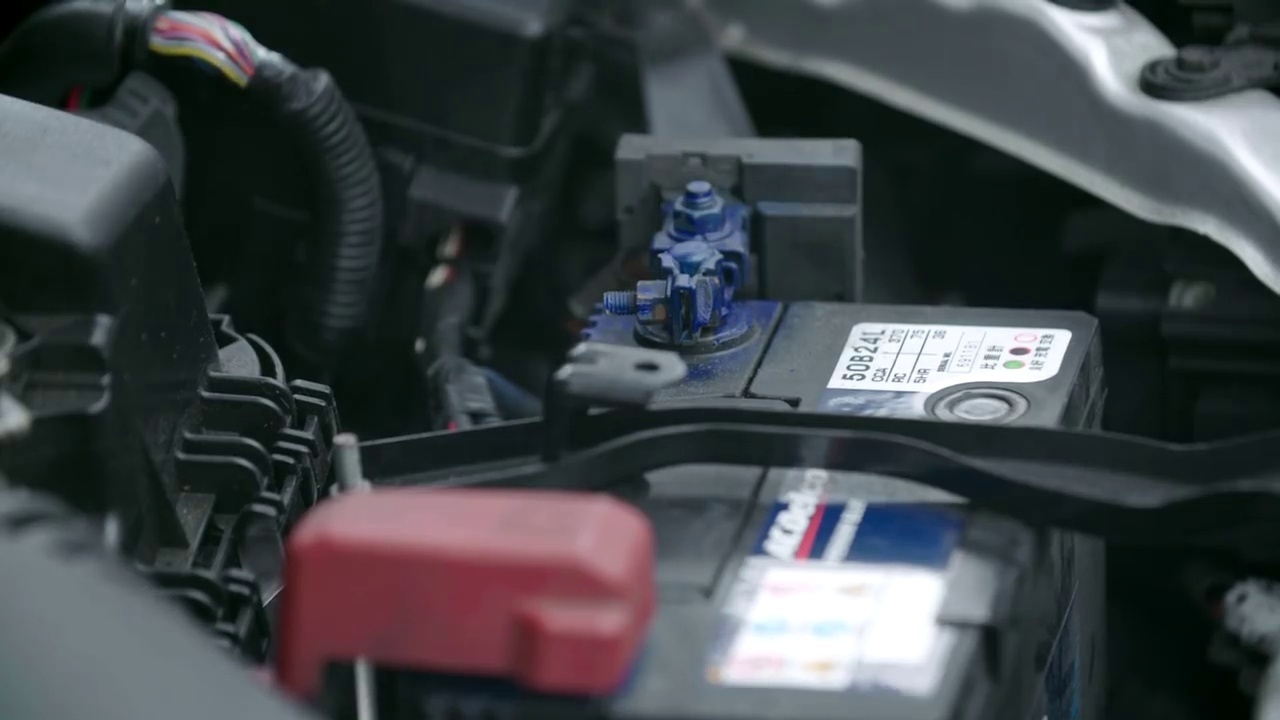battery: (294, 182, 1115, 720)
neg_connected: (598, 171, 806, 355)
pos_connected: (295, 456, 668, 712)
